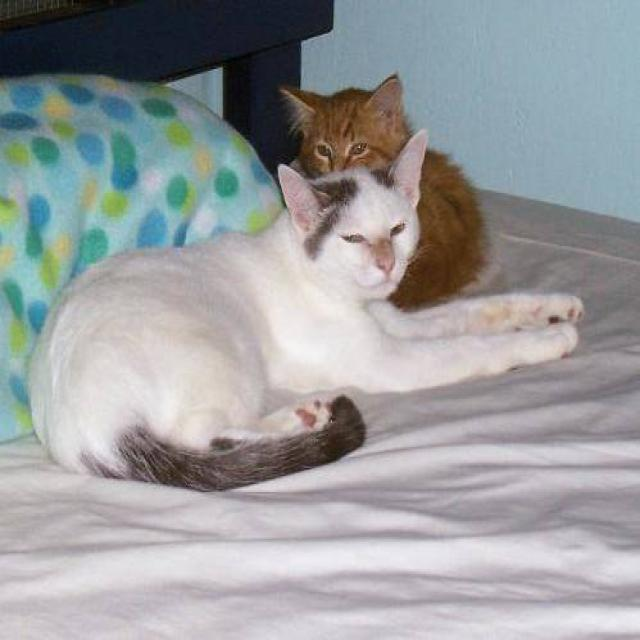cat: (26, 134, 585, 492), (277, 70, 490, 308)
